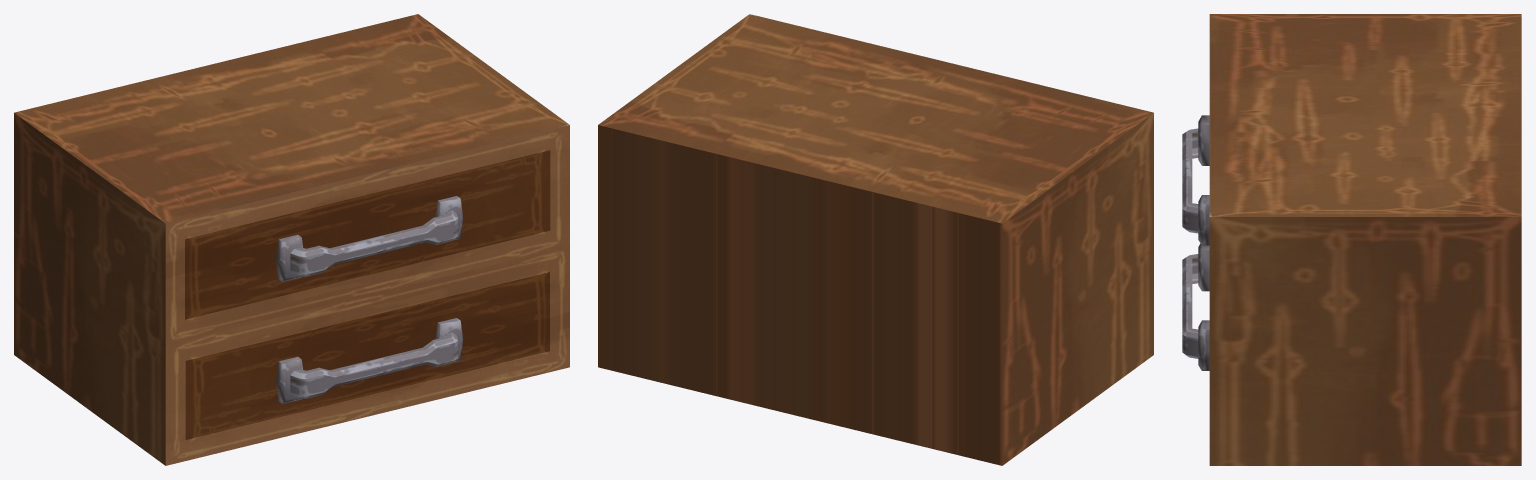
File: Workbench_Drawers.gltf
The picture shows the model from 3 angles, left to right: view 1: azimuth 30°, elevation 25°; view 2: azimuth 150°, elevation 25°; view 3: azimuth 270°, elevation 25°; orthographic projection. The views are drawn at different scales.
Parts seen in each view (by area): view 1: Workbench_Drawers; view 2: Workbench_Drawers; view 3: Workbench_Drawers.
Part boxes in pixels (x1=…): Workbench_Drawers: x1=14, y1=14, x2=569, y2=465; Workbench_Drawers: x1=598, y1=14, x2=1153, y2=465; Workbench_Drawers: x1=1182, y1=14, x2=1521, y2=465.
Size of the model in its own units: 0.4231 by 0.2423 by 0.299.
2 materials, 2 textured.
